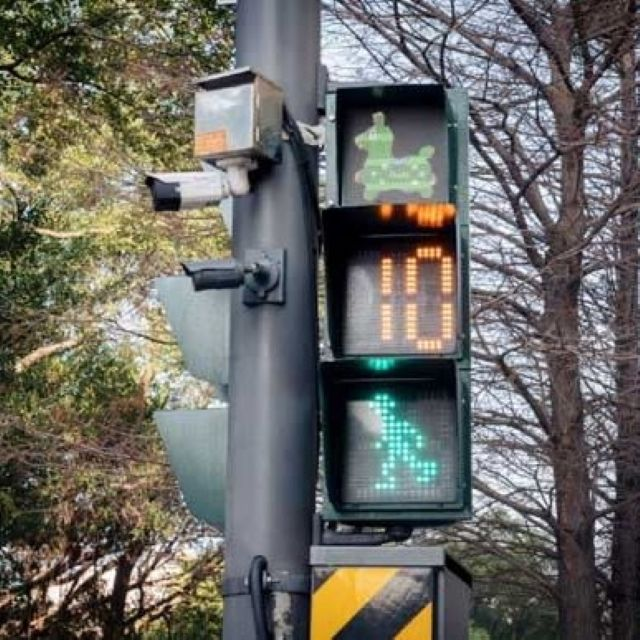green_light: (324, 81, 468, 521)
